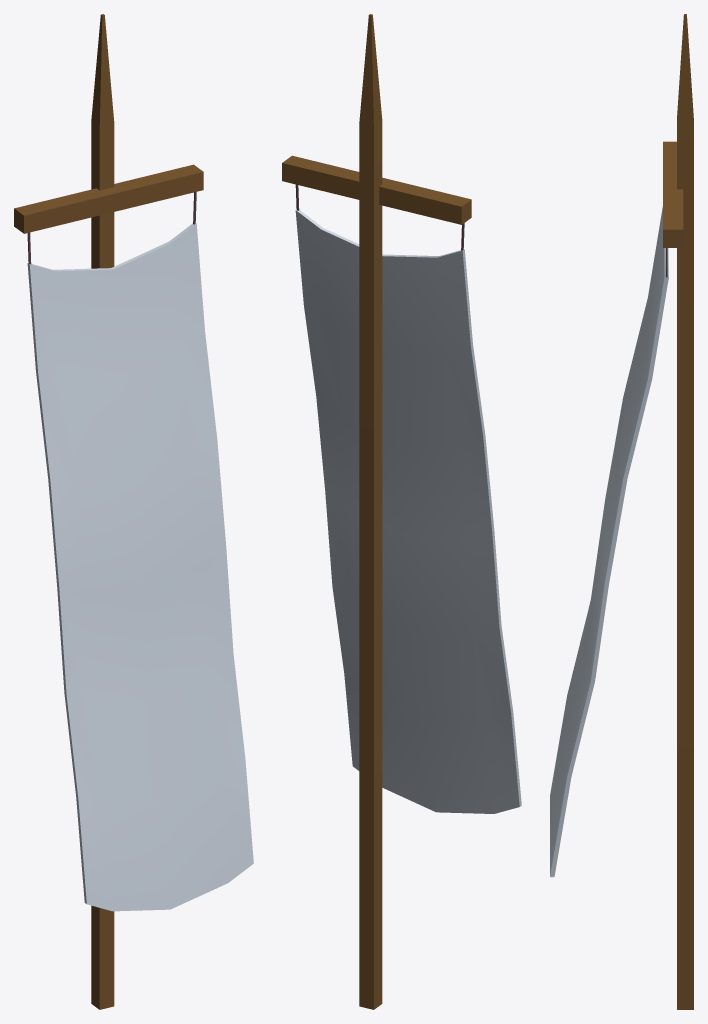
The model's file is White_Flag.fbx.
3 renders of one model, left to right at view 1: azimuth 30°, elevation 25°; view 2: azimuth 150°, elevation 25°; view 3: azimuth 270°, elevation 25°, orthographic.
Visible parts, largest first — view 1: White_Flag; view 2: White_Flag; view 3: White_Flag.
Part boxes in pixels (x1,y1,x2,y2): White_Flag: (14, 14, 253, 1009); White_Flag: (282, 14, 521, 1009); White_Flag: (550, 14, 693, 1009).
Bounding box in the file's own units: 380 × 2003 × 263.
